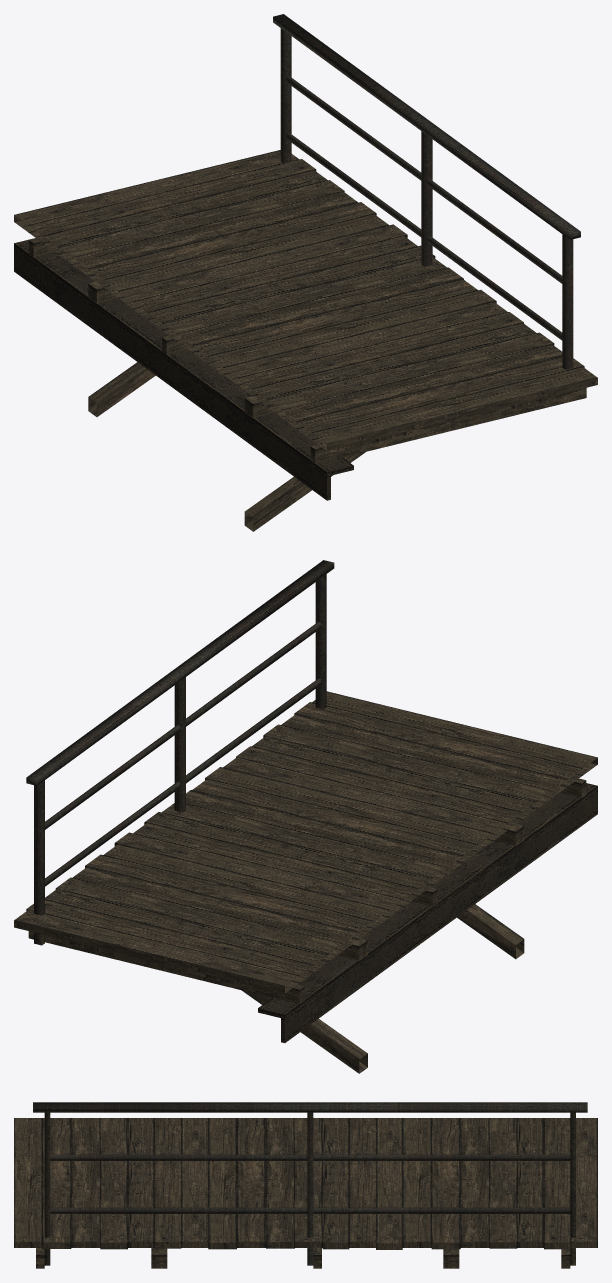
File: platform_ax_2.glb
The picture shows the model from 3 angles, top to bottom: view 1: azimuth 30°, elevation 25°; view 2: azimuth 150°, elevation 25°; view 3: azimuth 270°, elevation 25°; orthographic projection. The views are drawn at different scales.
Parts seen in each view (by area): view 1: platform_ax_2; view 2: platform_ax_2; view 3: platform_ax_2.
Boxes of the visible parts, box(x1,y1,x2,y2) form: platform_ax_2: box(14, 14, 597, 531); platform_ax_2: box(14, 560, 597, 1073); platform_ax_2: box(14, 1102, 597, 1268).
Size of the model in its own units: 2.03 by 1.99 by 4.
Materials: 2 (2 with a texture image).
